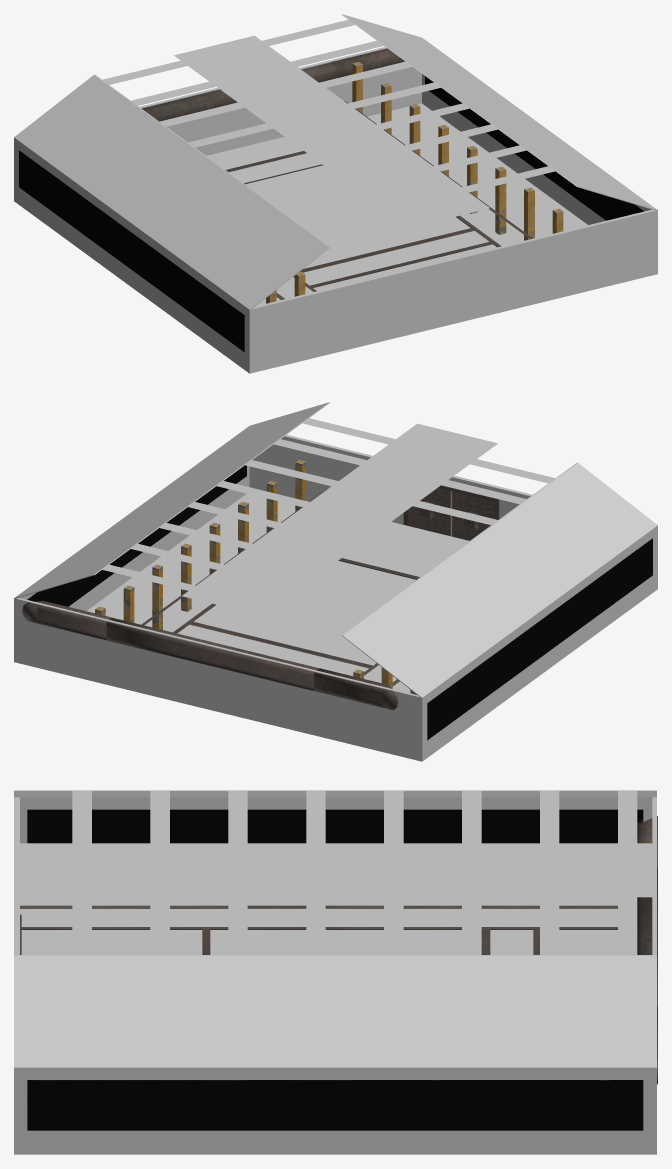
The model's file is Level1.fbx.
3 views of the same model, one above another, from view 1: azimuth 30°, elevation 25°; view 2: azimuth 150°, elevation 25°; view 3: azimuth 270°, elevation 25° (orthographic). The views are drawn at different scales.
Parts seen in each view (by area): view 1: Ceiling, Level, Window, Pillar, Pipe, Window1, CatWalk; view 2: Ceiling, Level, Window, Pipe, Pillar, Door two (large) Templatre, Window1, CatWalk; view 3: Ceiling, Level, Window1, Window, CatWalk, Pipe.
Part boxes in pixels (box(x1,y1,x2,y2)): Ceiling: box(14, 14, 657, 309); Level: box(14, 47, 657, 373); Window: box(19, 150, 244, 352); Pillar: box(266, 62, 563, 303); Pipe: box(142, 48, 404, 121); Window1: box(425, 76, 643, 220); CatWalk: box(226, 101, 532, 299); Ceiling: box(14, 402, 657, 697); Level: box(14, 435, 657, 761); Window: box(427, 538, 652, 740); Pipe: box(22, 600, 398, 710); Pillar: box(95, 460, 416, 694); Door two (large) Templatre: box(407, 488, 494, 540); Window1: box(27, 465, 246, 606); CatWalk: box(141, 489, 419, 686); Ceiling: box(14, 790, 656, 1067); Level: box(14, 797, 656, 1154); Window1: box(27, 1080, 643, 1130); Window: box(27, 809, 643, 843); CatWalk: box(20, 905, 617, 954); Pipe: box(637, 816, 657, 1084).
Size of the model in its own units: 12018 by 3024 by 12039.
